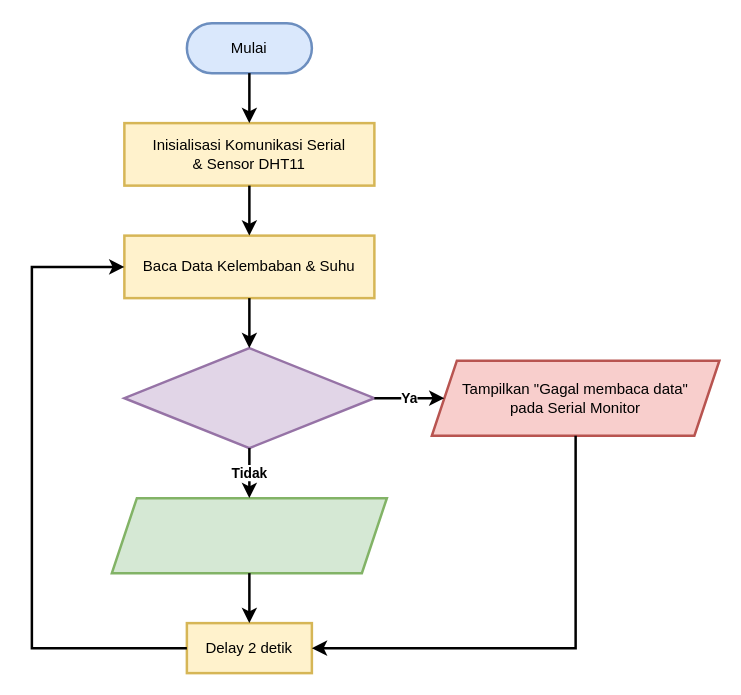
Image size: 741x695. Some labels were removed from this diagram. Here are the shapes that lost their labels. From the top down, the centre of each, then its label:
point (248, 397): Apakah hasil pembacaan Gagal / NaN?
point (249, 535): Tampilkan nilai suhu & kelembaban pada Serial Monitor
